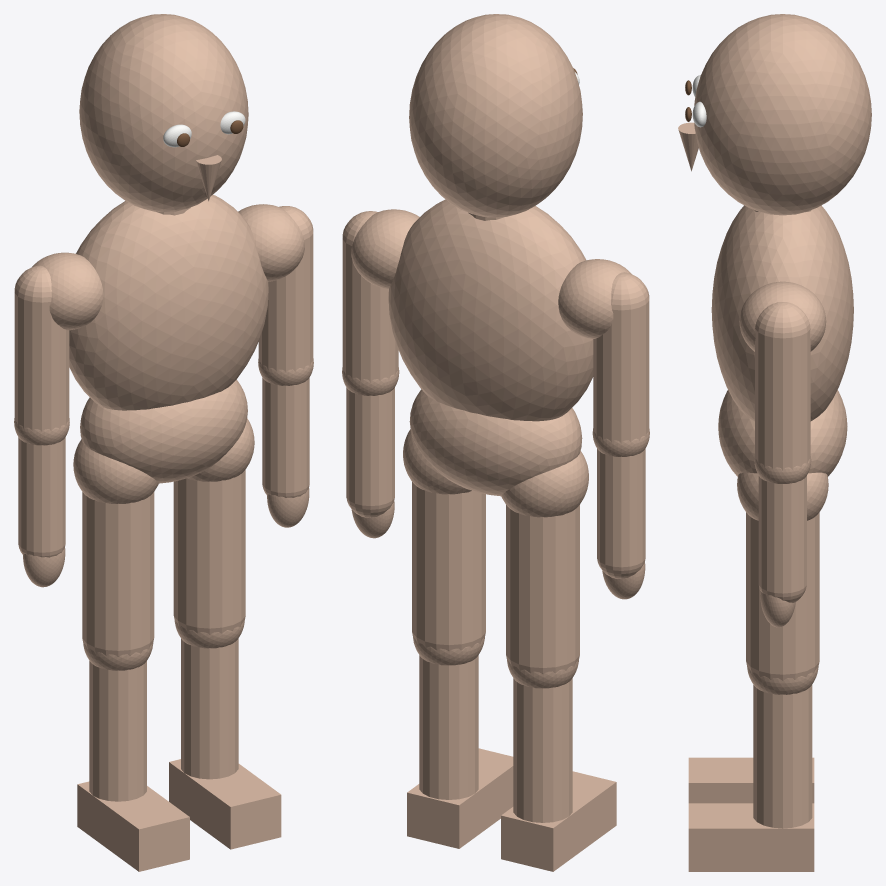
Rendered from human-base.glb.
3 views of the same model, side by side, from view 1: azimuth 30°, elevation 25°; view 2: azimuth 150°, elevation 25°; view 3: azimuth 270°, elevation 25° (orthographic). The views are drawn at different scales.
Visible parts, largest first — view 1: Body_Torso, Skin_Head, Skin_Left_Thigh, Skin_Right_Thigh, Body_Pelvis, Skin_Left_UpperArm, Skin_Left_LowerLeg, Skin_Right_LowerLeg, Skin_Left_Foot, Skin_Right_Foot, Skin_Right_UpperArm, Skin_Left_Forearm (+12 smaller); view 2: Body_Torso, Skin_Head, Skin_Left_Thigh, Skin_Right_Thigh, Body_Pelvis, Skin_Left_UpperArm, Skin_Right_LowerLeg, Skin_Left_LowerLeg, Skin_Left_Foot, Skin_Right_UpperArm, Skin_Right_Foot, Skin_Left_Forearm (+11 smaller); view 3: Skin_Head, Body_Torso, Skin_Right_UpperArm, Skin_Right_LowerLeg, Skin_Right_Foot, Skin_Right_Thigh, Skin_Right_Forearm, Body_Pelvis, Skin_Left_Foot, Skin_Right_Shoulder, Skin_Right_Hip, Skin_Right_Knee (+3 smaller).
Boxes of the visible parts, box(x1,y1,x2,y2) form: Body_Torso: box(69, 194, 268, 410); Skin_Head: box(79, 14, 248, 211); Skin_Left_Thigh: box(82, 492, 154, 656); Skin_Right_Thigh: box(173, 470, 245, 634); Body_Pelvis: box(80, 379, 247, 483); Skin_Left_UpperArm: box(14, 265, 69, 431); Skin_Left_LowerLeg: box(89, 661, 146, 801); Skin_Right_LowerLeg: box(181, 638, 238, 779); Skin_Left_Foot: box(77, 781, 189, 871); Skin_Right_Foot: box(169, 759, 281, 849); Skin_Right_UpperArm: box(258, 206, 313, 372); Skin_Left_Forearm: box(18, 437, 65, 557); Body_Torso: box(388, 199, 593, 421); Skin_Head: box(409, 14, 582, 217); Skin_Left_Thigh: box(506, 505, 579, 673); Skin_Right_Thigh: box(412, 482, 485, 650); Body_Pelvis: box(409, 389, 582, 496); Skin_Left_UpperArm: box(593, 272, 649, 443); Skin_Right_LowerLeg: box(419, 655, 478, 799); Skin_Left_LowerLeg: box(513, 678, 572, 822); Skin_Left_Foot: box(501, 771, 616, 871); Skin_Right_UpperArm: box(342, 211, 398, 382); Skin_Right_Foot: box(407, 748, 513, 848); Skin_Left_Forearm: box(597, 448, 645, 578); Skin_Head: box(694, 14, 871, 215); Body_Torso: box(711, 205, 853, 421); Skin_Right_UpperArm: box(755, 302, 810, 470); Skin_Right_LowerLeg: box(753, 685, 812, 828); Skin_Right_Foot: box(688, 803, 814, 871); Skin_Right_Thigh: box(746, 512, 819, 680); Skin_Right_Forearm: box(758, 476, 806, 602); Body_Pelvis: box(718, 390, 847, 476); Skin_Left_Foot: box(688, 757, 814, 803); Skin_Right_Shoulder: box(739, 281, 826, 351); Skin_Right_Hip: box(737, 472, 828, 520); Skin_Right_Knee: box(747, 667, 818, 694).
Bounding box in the file's own units: 1.15 × 3.01 × 0.6476.
